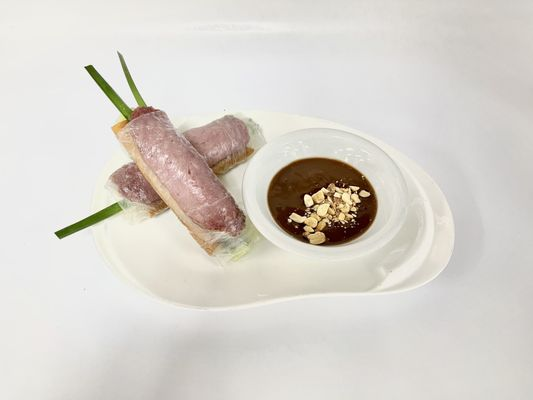sushi: (242, 124, 411, 261)
